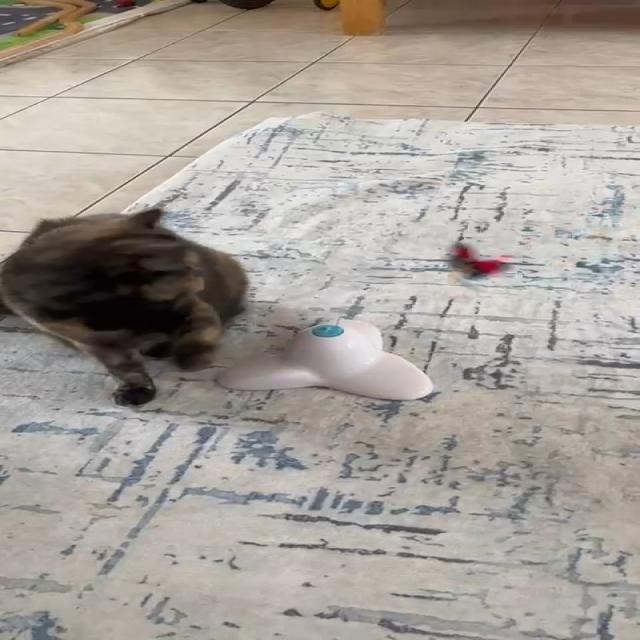authorized: (0, 207, 248, 407)
